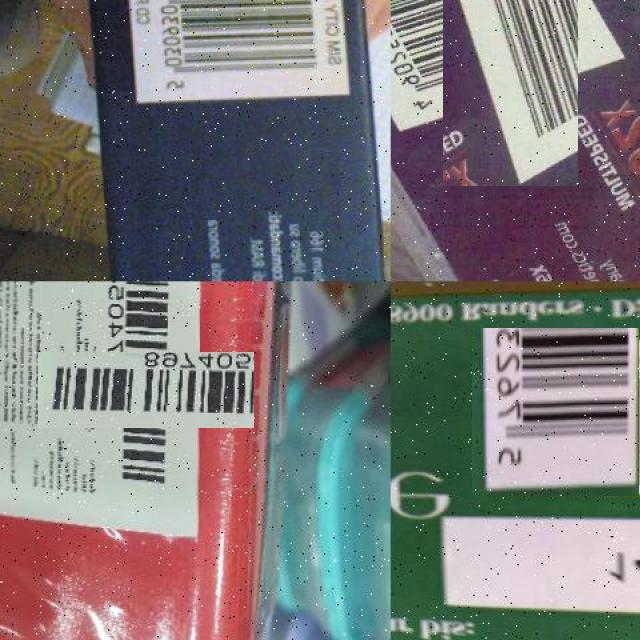Barcode: (417, 0, 604, 160), (472, 328, 640, 496), (118, 0, 350, 104), (72, 316, 219, 463)
